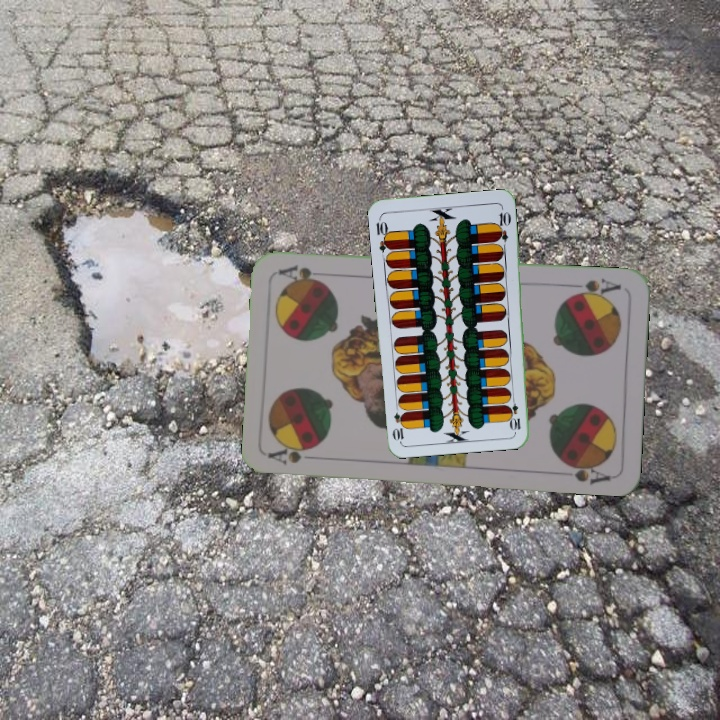E10: (372, 214, 393, 254), (507, 392, 523, 433)
SA: (565, 275, 623, 301), (266, 443, 317, 467)
